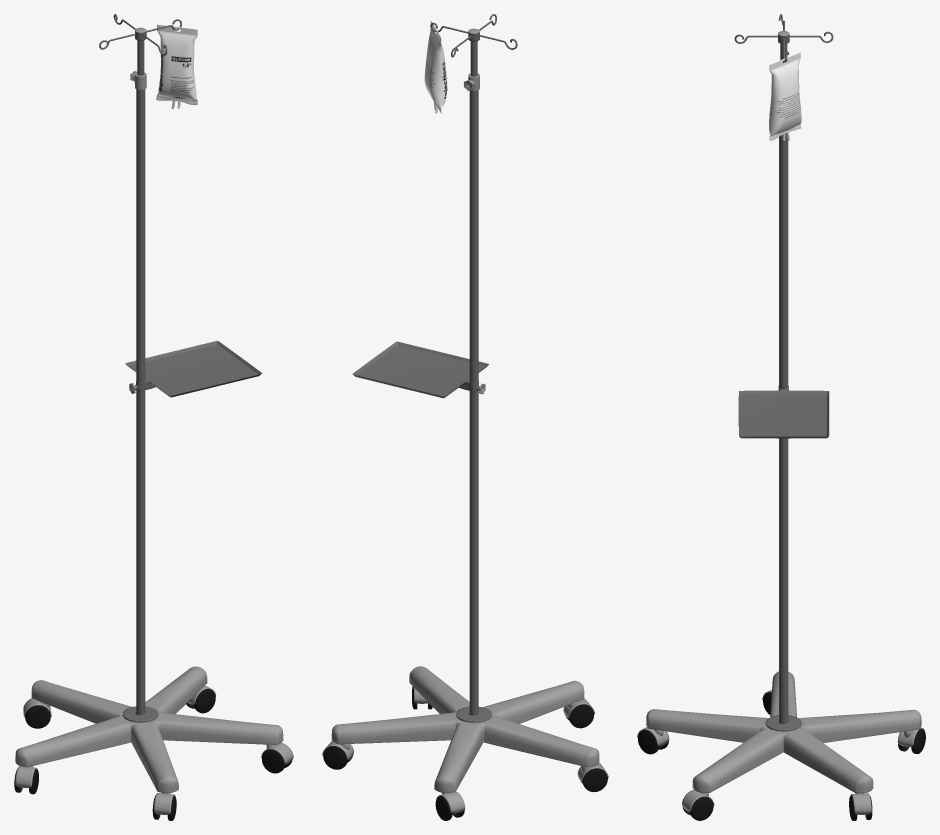
The model's file is TIANG INFUS.glb.
The picture shows the model from 3 angles, left to right: view 1: azimuth 30°, elevation 25°; view 2: azimuth 150°, elevation 25°; view 3: azimuth 270°, elevation 25°; orthographic projection.
Visible parts, largest first — view 1: Tiang infus.002; view 2: Tiang infus.002; view 3: Tiang infus.002.
Part boxes in pixels (x1,y1,x2,y2): Tiang infus.002: [14, 14, 293, 820]; Tiang infus.002: [322, 14, 608, 820]; Tiang infus.002: [637, 14, 925, 820].
Size of the model in its own units: 0.3044 by 0.885 by 0.3136.
Materials: 6 (2 with a texture image).
